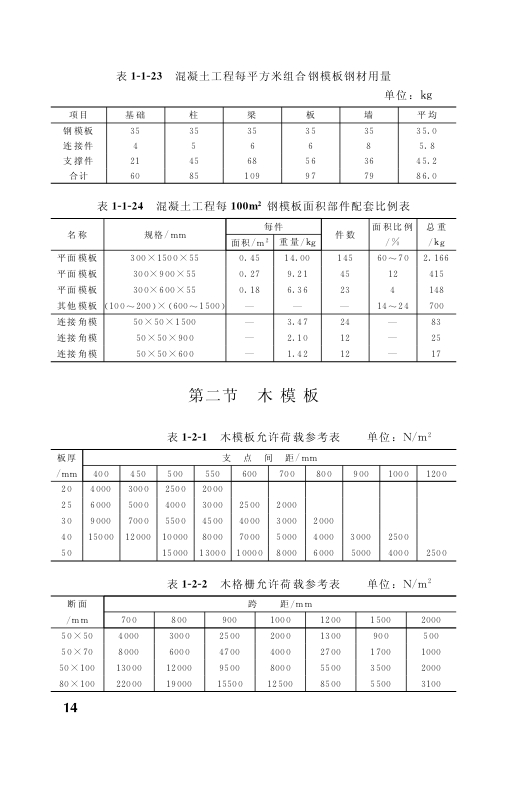table: (50, 217, 456, 363), (50, 449, 456, 561), (50, 596, 456, 691), (50, 105, 455, 183)
